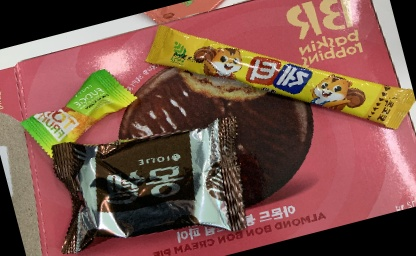jeli: (22, 121, 150, 209)
jt: (156, 75, 416, 251)
mon: (30, 7, 251, 153)
